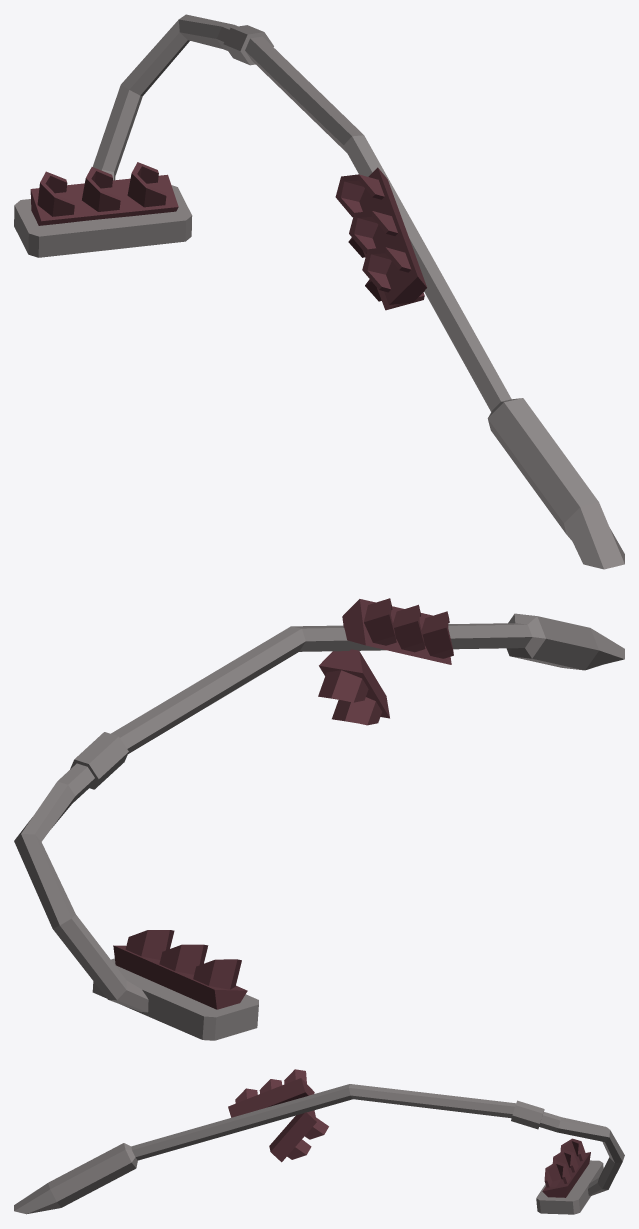
File: traffic-lights-apocalypse-c.fbx
3 views of the same model, one above another, from view 1: azimuth 30°, elevation 25°; view 2: azimuth 150°, elevation 25°; view 3: azimuth 270°, elevation 25° (orthographic). The views are drawn at different scales.
Visible parts, largest first — view 1: traffic-lights-apocalypse-c; view 2: traffic-lights-apocalypse-c; view 3: traffic-lights-apocalypse-c.
Part boxes in pixels (left/top/right/bottom): traffic-lights-apocalypse-c: left=14, top=14, right=624, bottom=569; traffic-lights-apocalypse-c: left=14, top=598, right=624, bottom=1040; traffic-lights-apocalypse-c: left=14, top=1069, right=624, bottom=1214.
Size of the model in its own units: 1.73 by 1.8 by 7.49.
